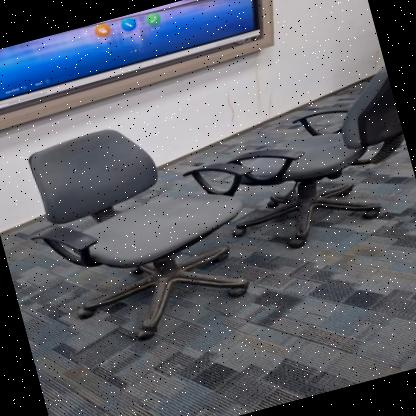chair: (4, 92, 288, 366), (194, 53, 416, 266)
